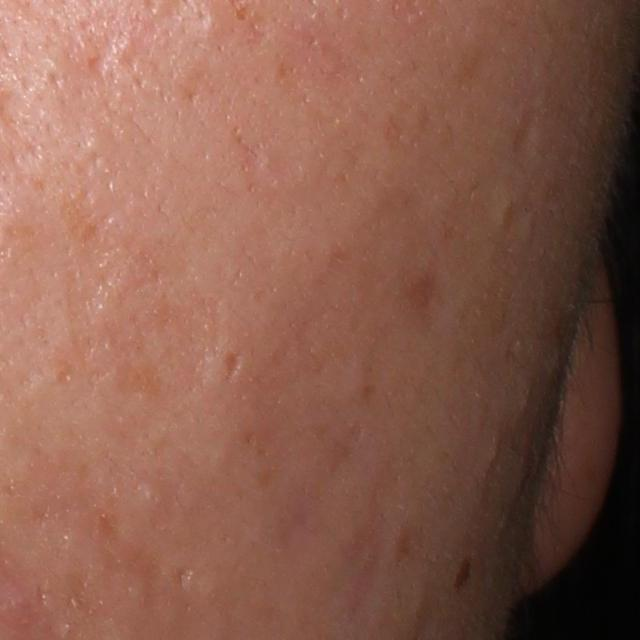atrophic_scar: (99, 244, 224, 417), (509, 103, 545, 166), (223, 349, 243, 383), (172, 563, 192, 590)
comedo: (136, 478, 168, 513)
nevus: (454, 558, 473, 589)
